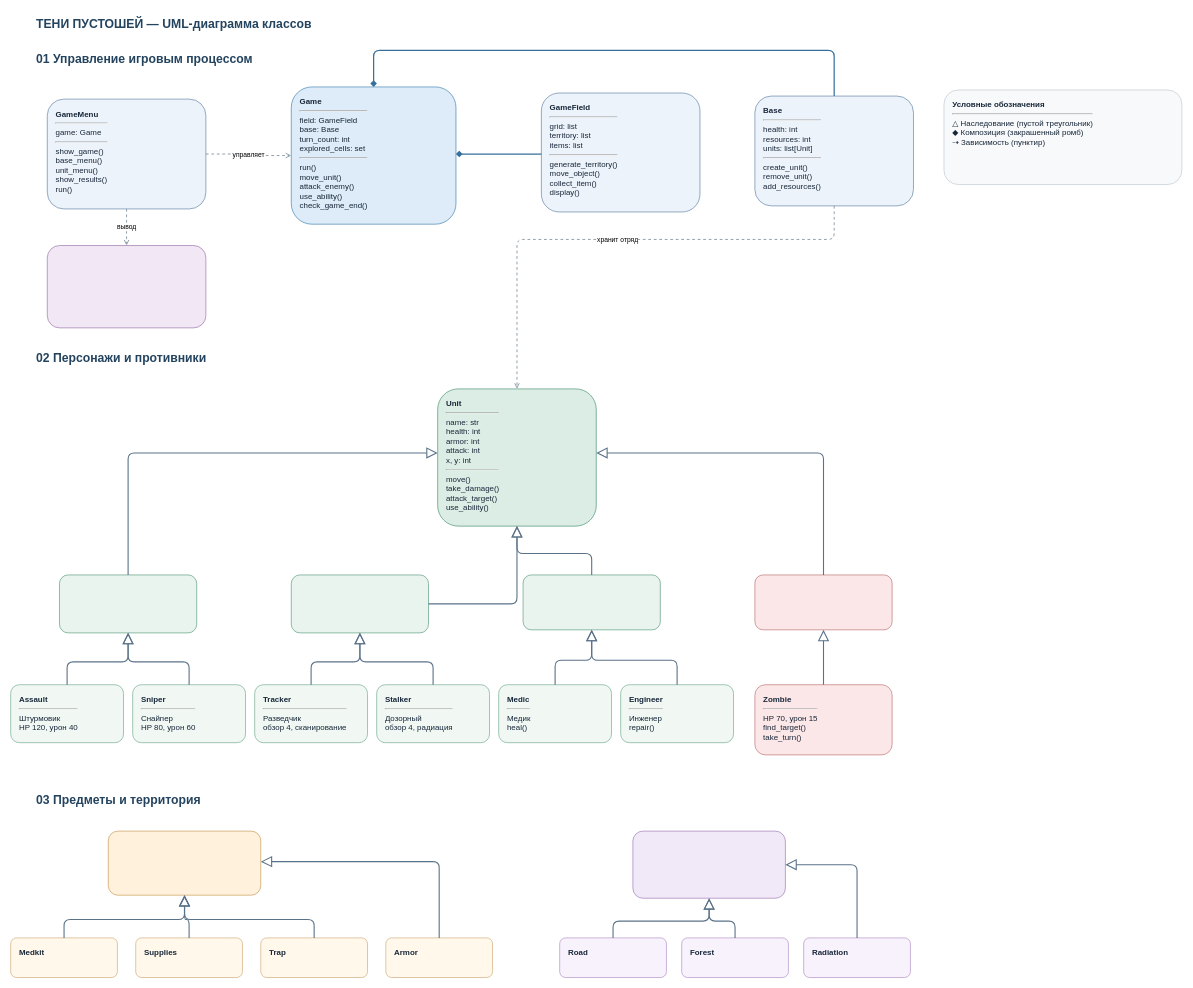
Some shapes in this 1193 by 988 pixel diagram are drawn without their labels. Here are the shapes that lost their labels. From the top down, the box of each, then its label:
(47, 245, 206, 328): GameText COLORS: dict PHRASES: dict event() character()
(59, 574, 197, 633): Fighter(Unit) use_ability() усиленная атака
(291, 574, 429, 633): Scout(Unit) use_ability() разведка
(522, 574, 660, 630): Support(Unit) поддержка отряда
(754, 574, 892, 630): Enemy(Unit) противник
(108, 831, 261, 895): NeutralObject name, symbol interact(unit)
(632, 831, 785, 898): Territory name, symbol on_enter(unit) on_leave(unit)
